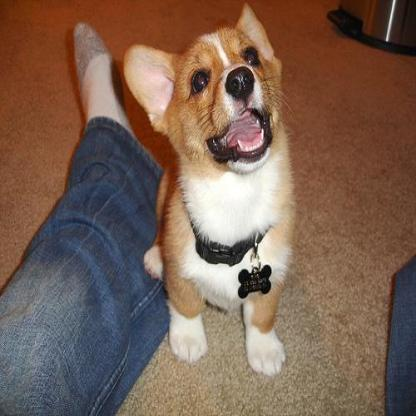Pembroke: (120, 1, 296, 378)
